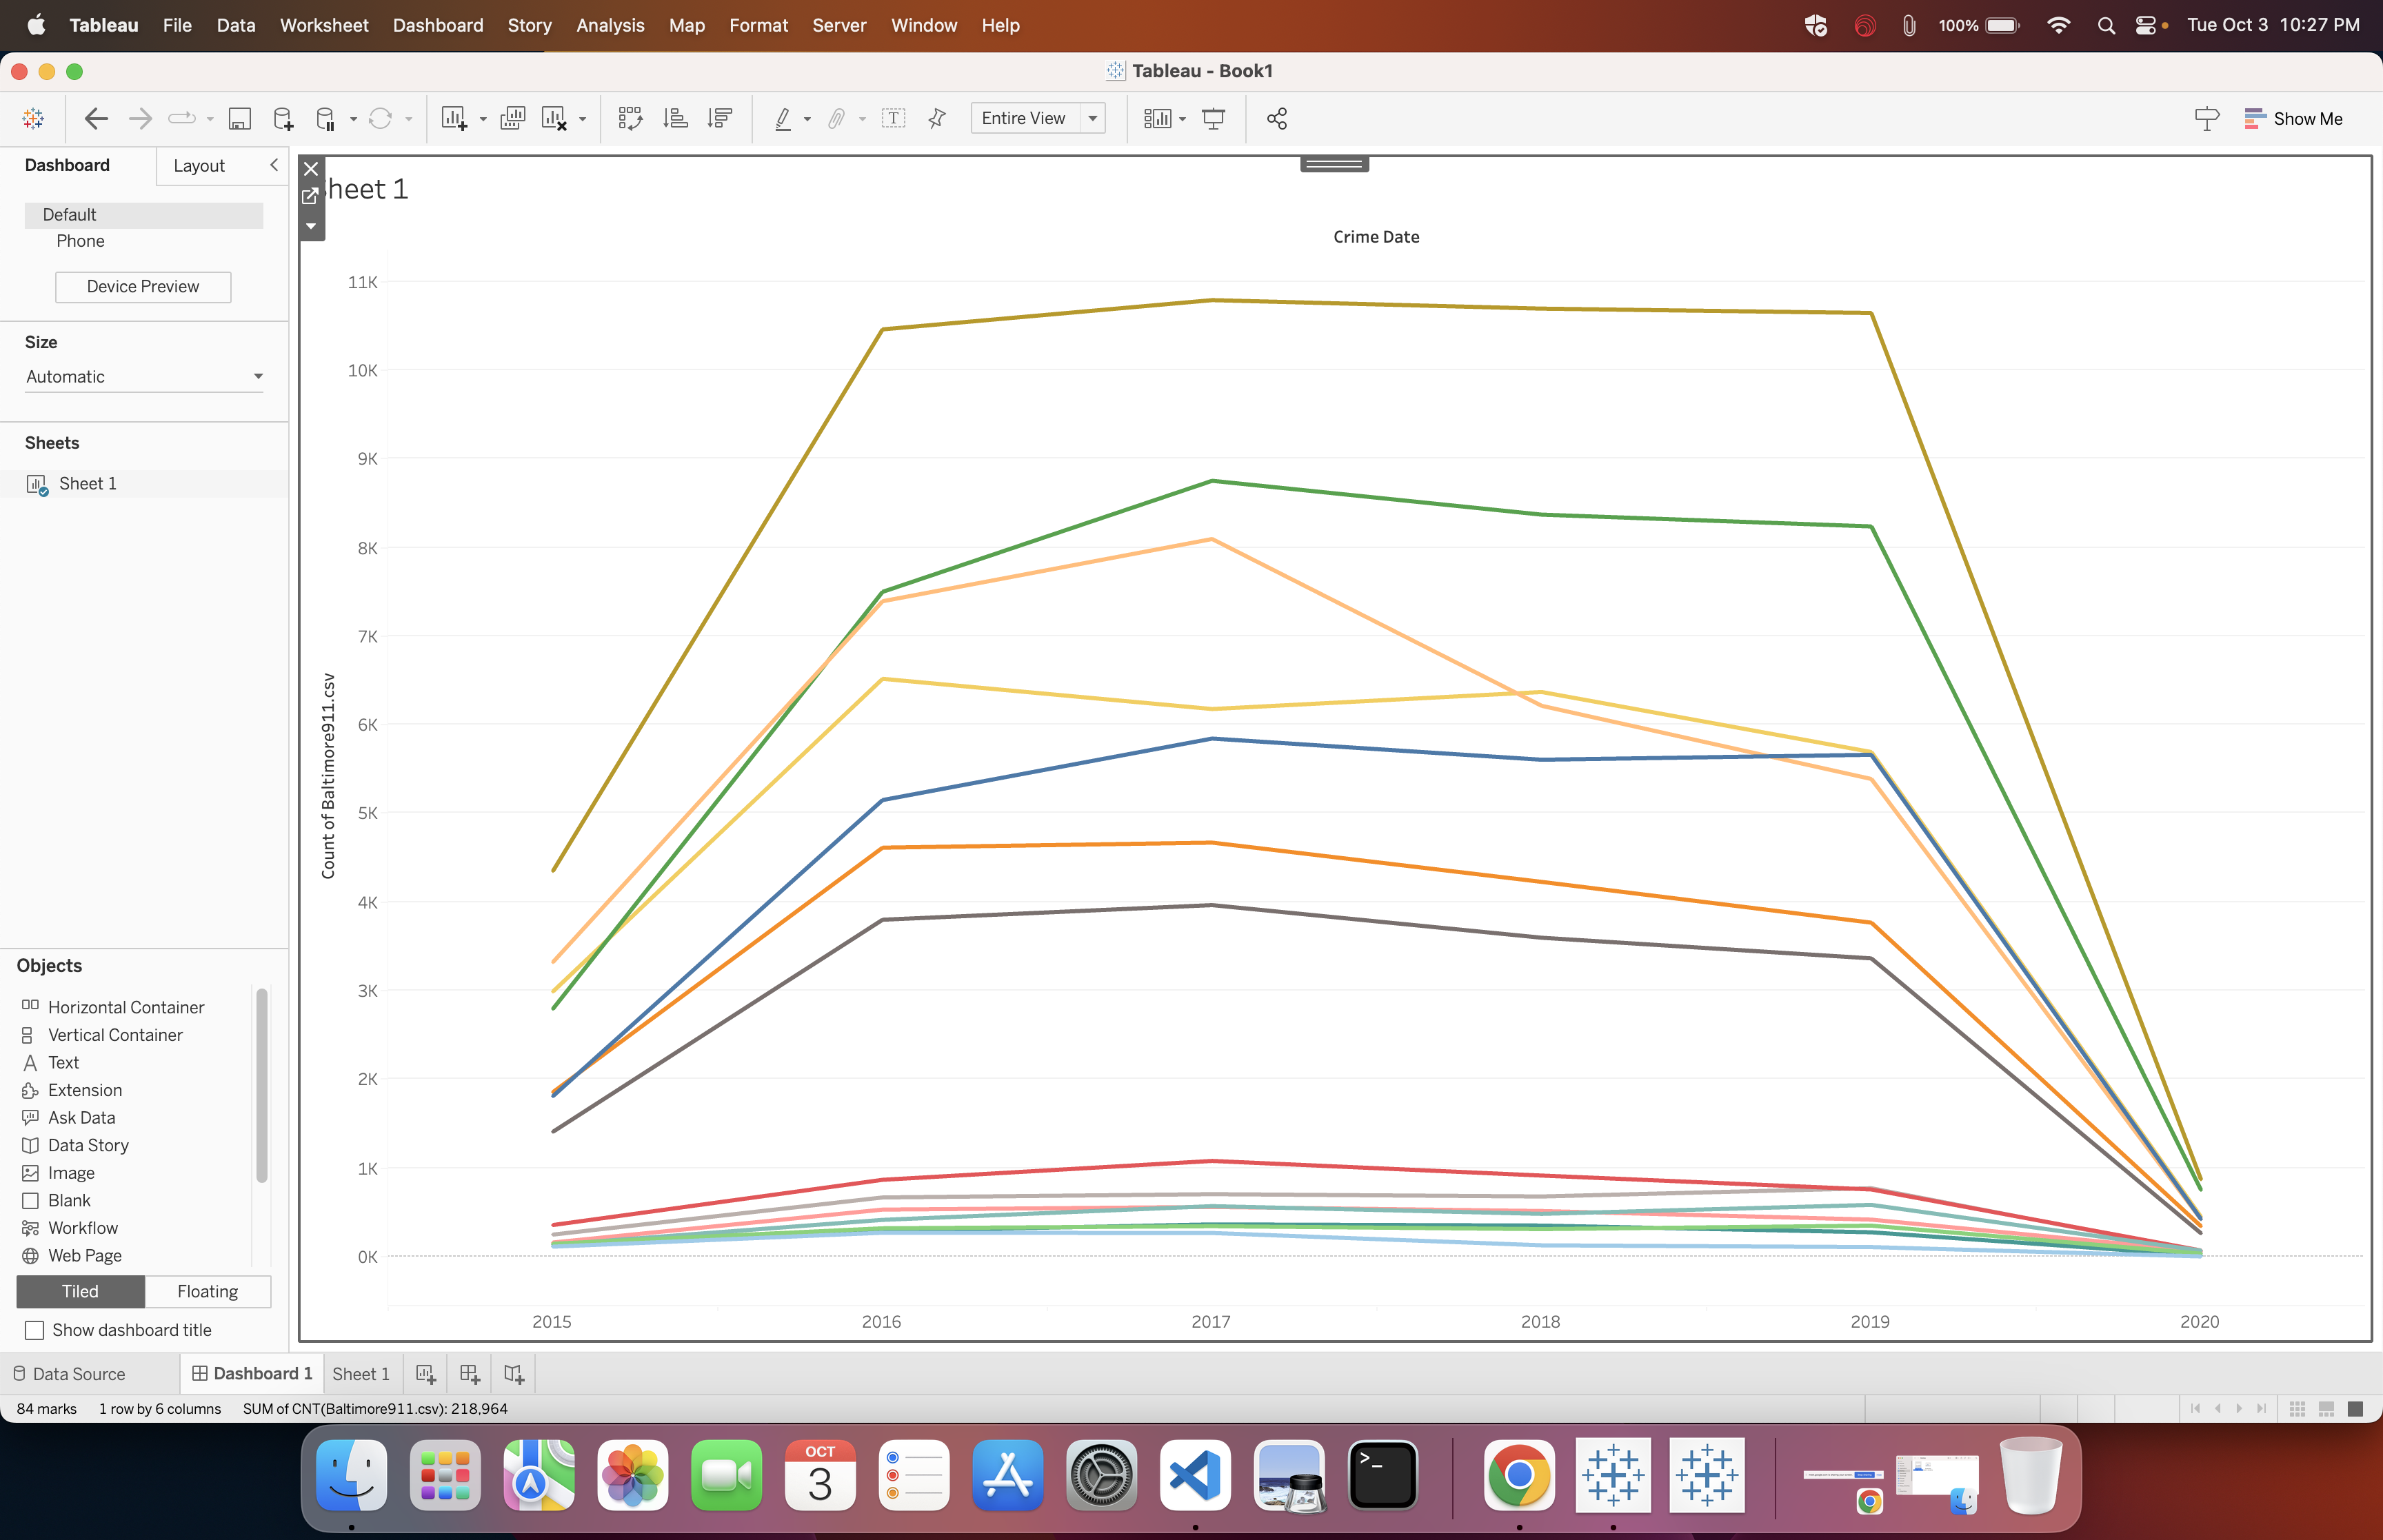

Layout of this report page (visuals, bound fields, positions):
{"tool":"tableau","page":{"name":"Dashboard 1","canvas":[1000,1000],"units":"permille","ordinal":0},"visuals":[{"type":"worksheet","title":"Sheet 1","mark":"Circle","rows":["Baltimore911.csv_D21EA5A1DF394CF2B379596E421D5C13"],"cols":["CrimeDate"],"box":[5.3,9.2,989.5,981.7]}]}

Visuals, with their boxes on the dashboard's canvas, which has no fixed pixel size, in thousandths of its width and height (x1, y1, x2, y2). These are canvas units, not pixel positions in the 2383x1540 screenshot, which may show the page scaled, cropped or inside an application window:
"Sheet 1" worksheet (Circle marks): (x1=5, y1=9, x2=995, y2=991)
